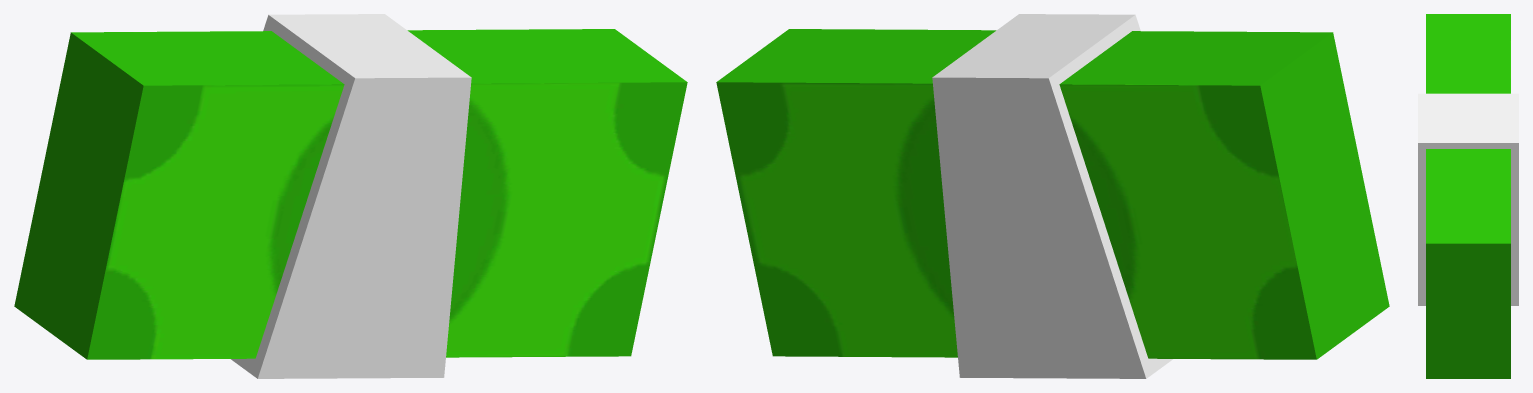
The model's file is Collectable_Coin.fbx.
3 views of the same model, side by side, from view 1: azimuth 30°, elevation 25°; view 2: azimuth 150°, elevation 25°; view 3: azimuth 270°, elevation 25° (orthographic). The views are drawn at different scales.
Parts seen in each view (by area): view 1: MoneyStack; view 2: MoneyStack; view 3: MoneyStack.
Boxes of the visible parts, x1,y1,x2,y2 form: MoneyStack: (14, 14, 687, 378); MoneyStack: (716, 14, 1389, 378); MoneyStack: (1418, 14, 1518, 378).
Size of the model in its own units: 0.7624 by 0.4727 by 0.1909.
Materials: 2 (1 with a texture image).
